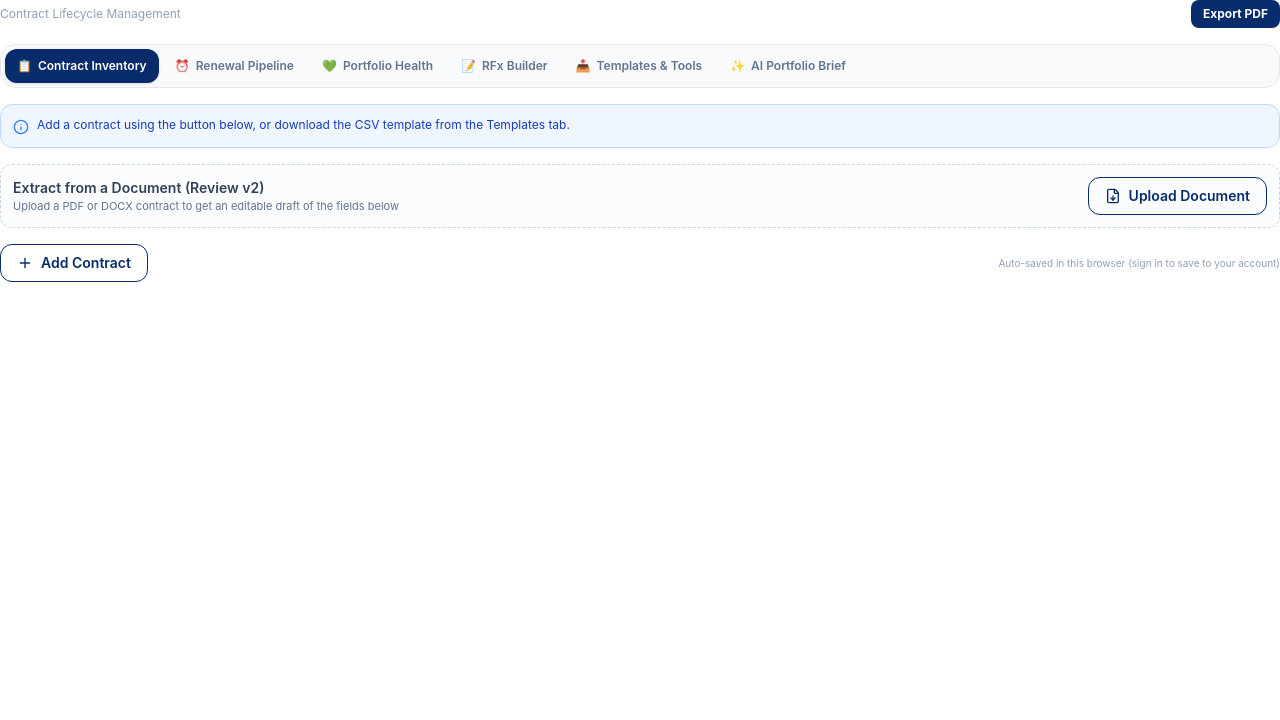
Test case: RFx Builder tab (registry #394) › computes the weighted total correctly for a bidder that passes the mandatory gate
Step 1. Click the tab "📝 RFx Builder" → point(504, 66), box [449, 49, 560, 83]
(page scrolled)
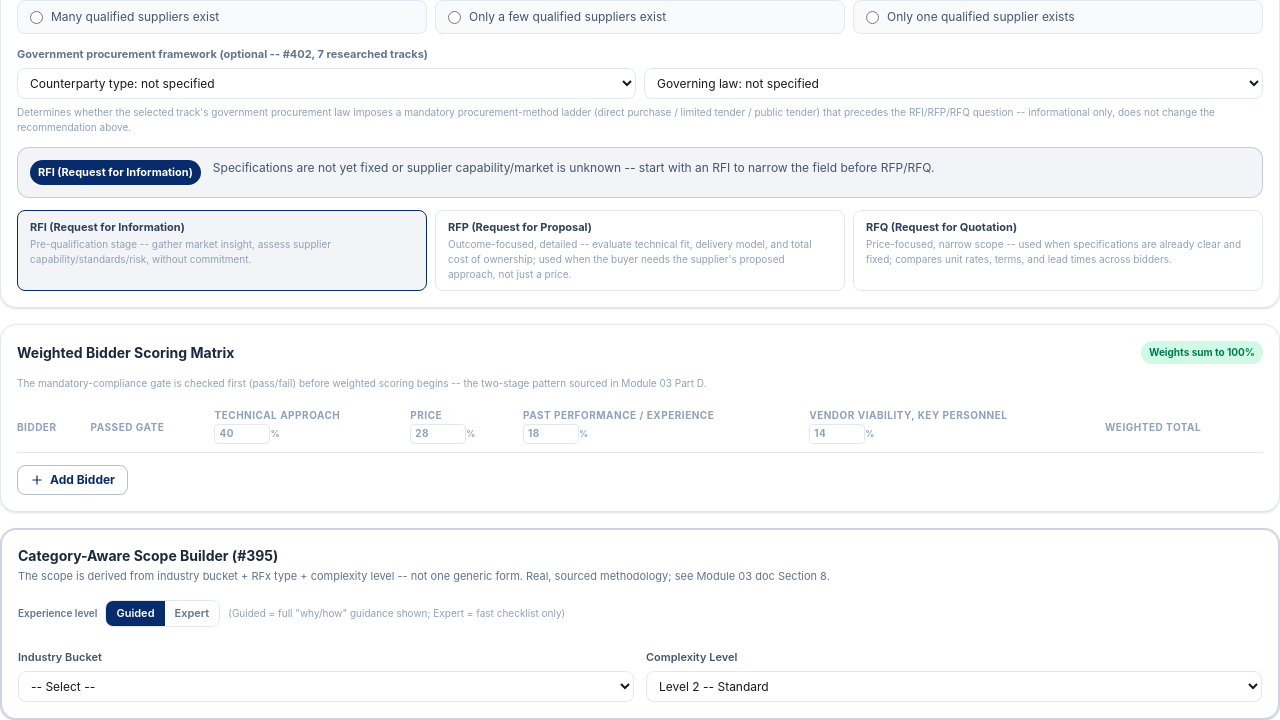
Step 2. Click the button "Add Bidder" → point(72, 480), box [17, 465, 128, 495]
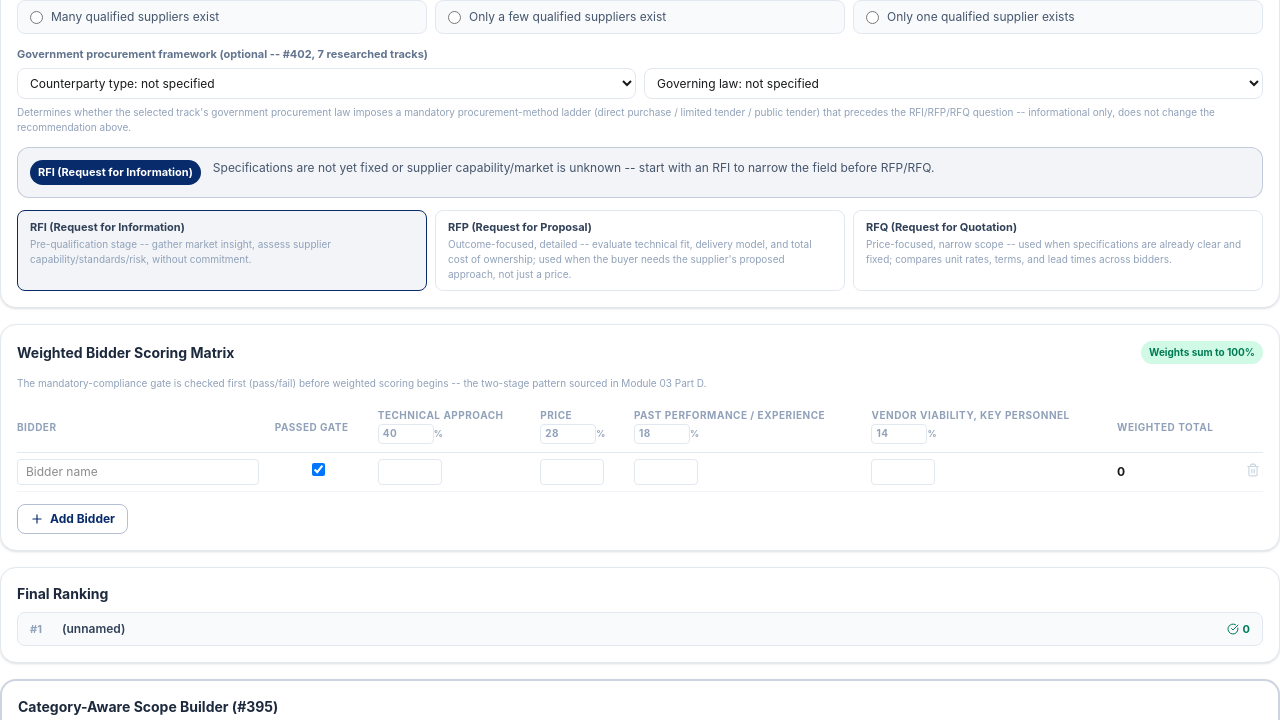
Step 3. Type "Acme Supplies" into the field with placeholder "Bidder name" → point(138, 472), box [17, 459, 259, 485]
Step 4. Type "100" into the 5th number field → point(410, 472), box [378, 459, 442, 485]
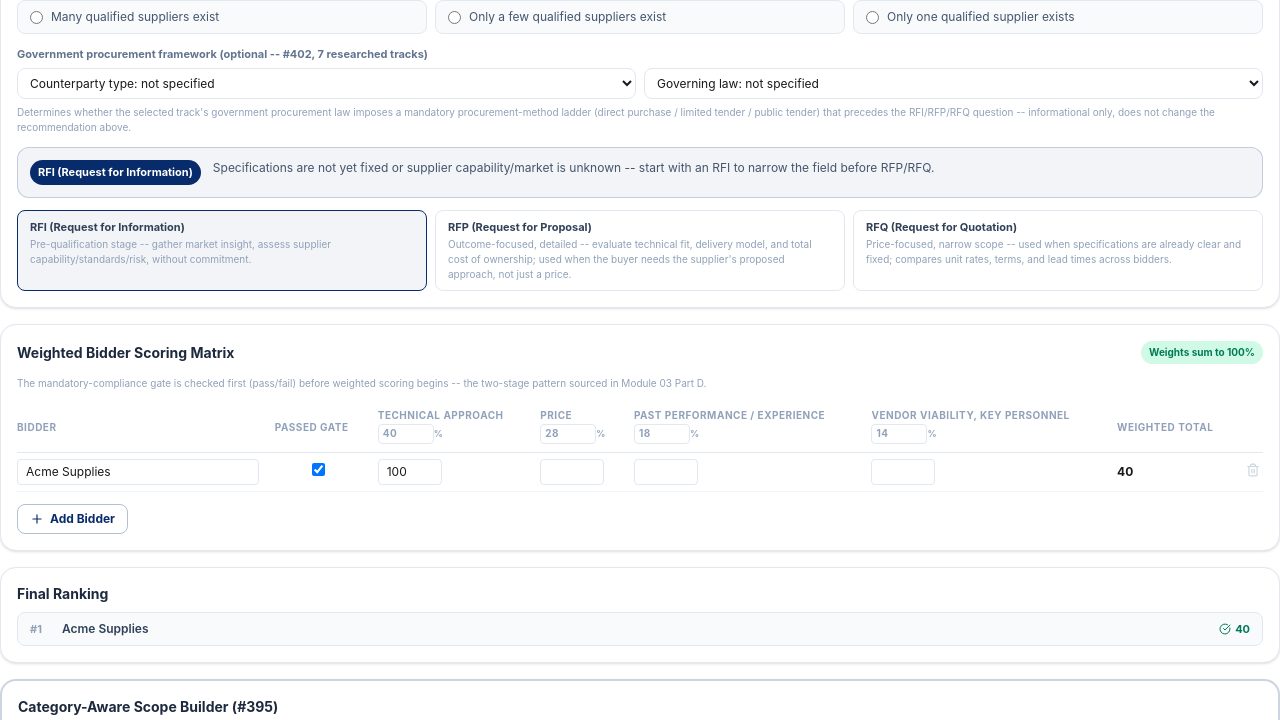
Step 5. Type "100" into the 6th number field → point(572, 472), box [540, 459, 604, 485]
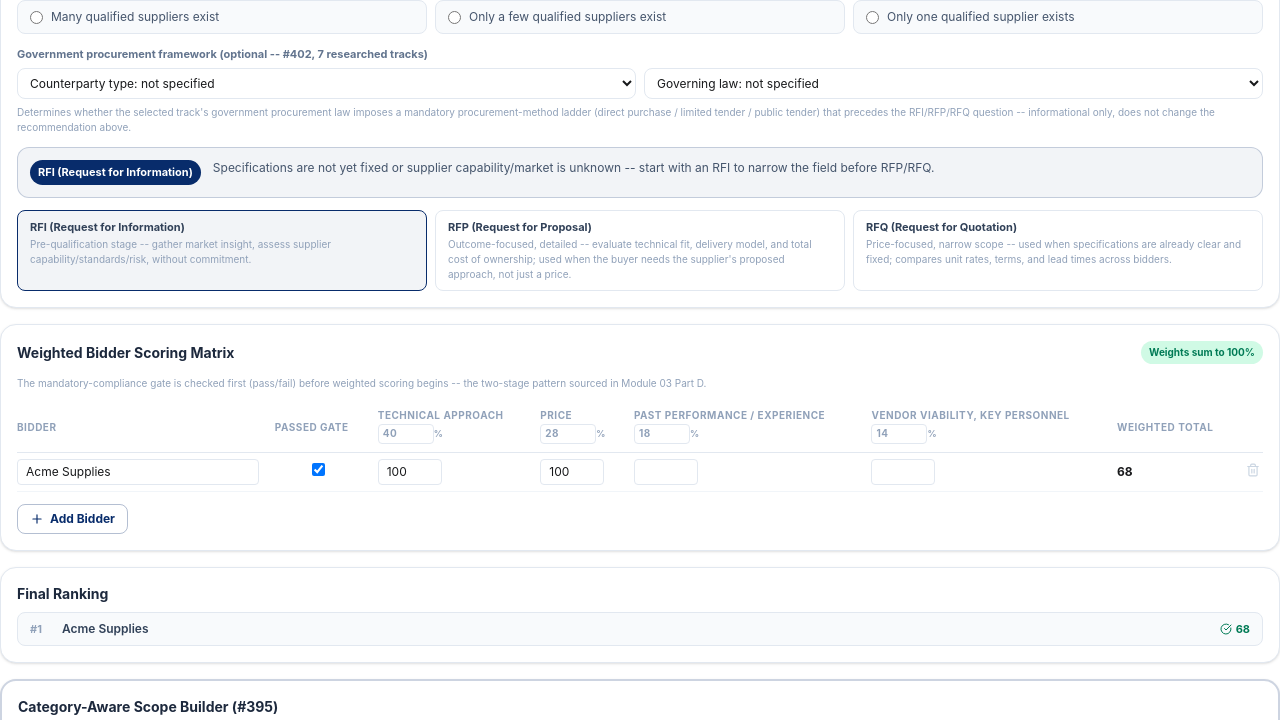
Step 6. Type "100" into the 7th number field → point(666, 472), box [634, 459, 698, 485]
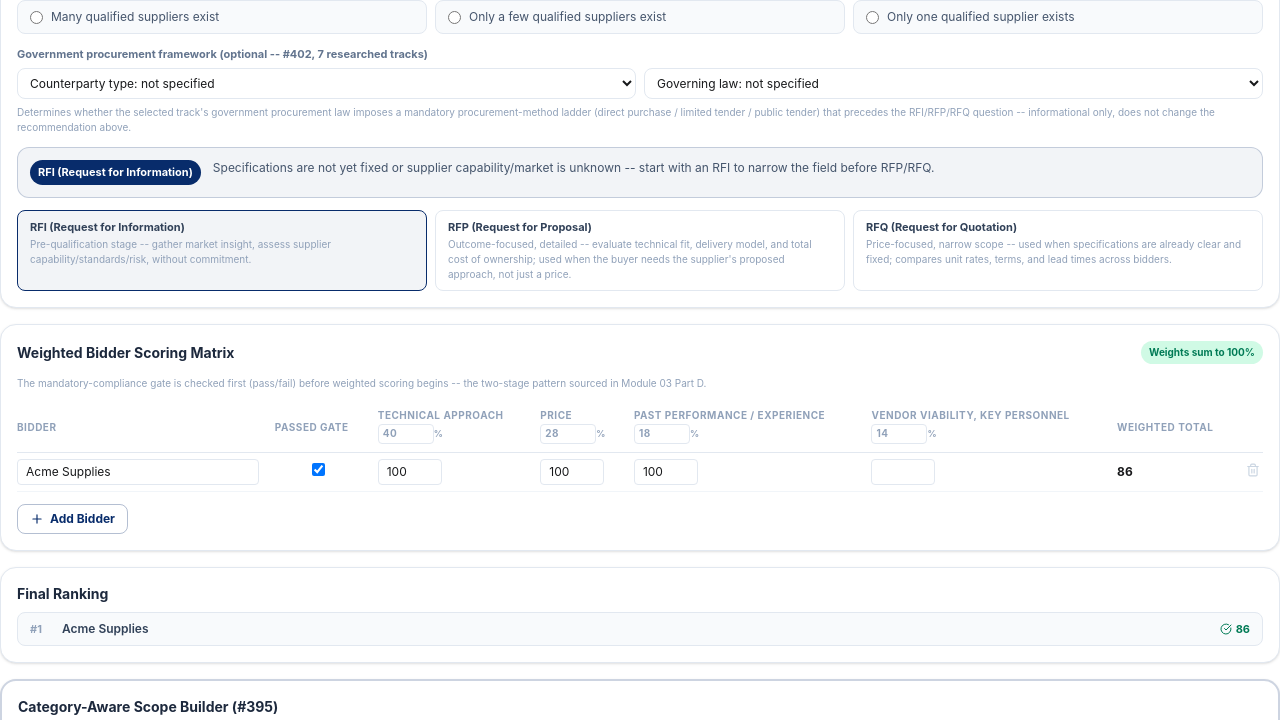
Step 7. Type "100" into the 8th number field → point(904, 472), box [872, 459, 936, 485]
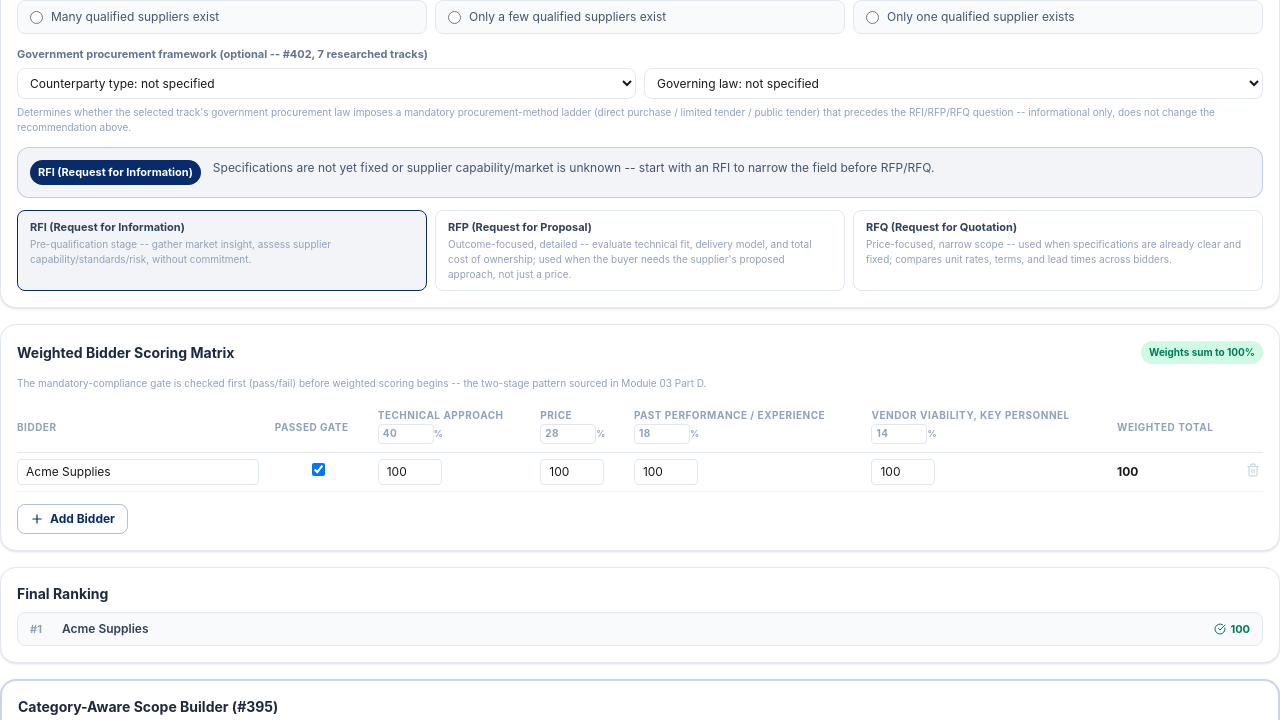
Now the text "100" is shown, box [1109, 452, 1238, 491]
